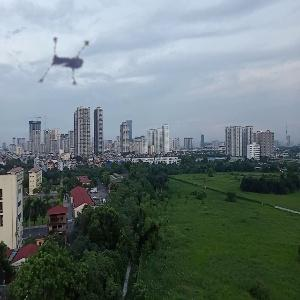drone: (20, 24, 111, 115)
